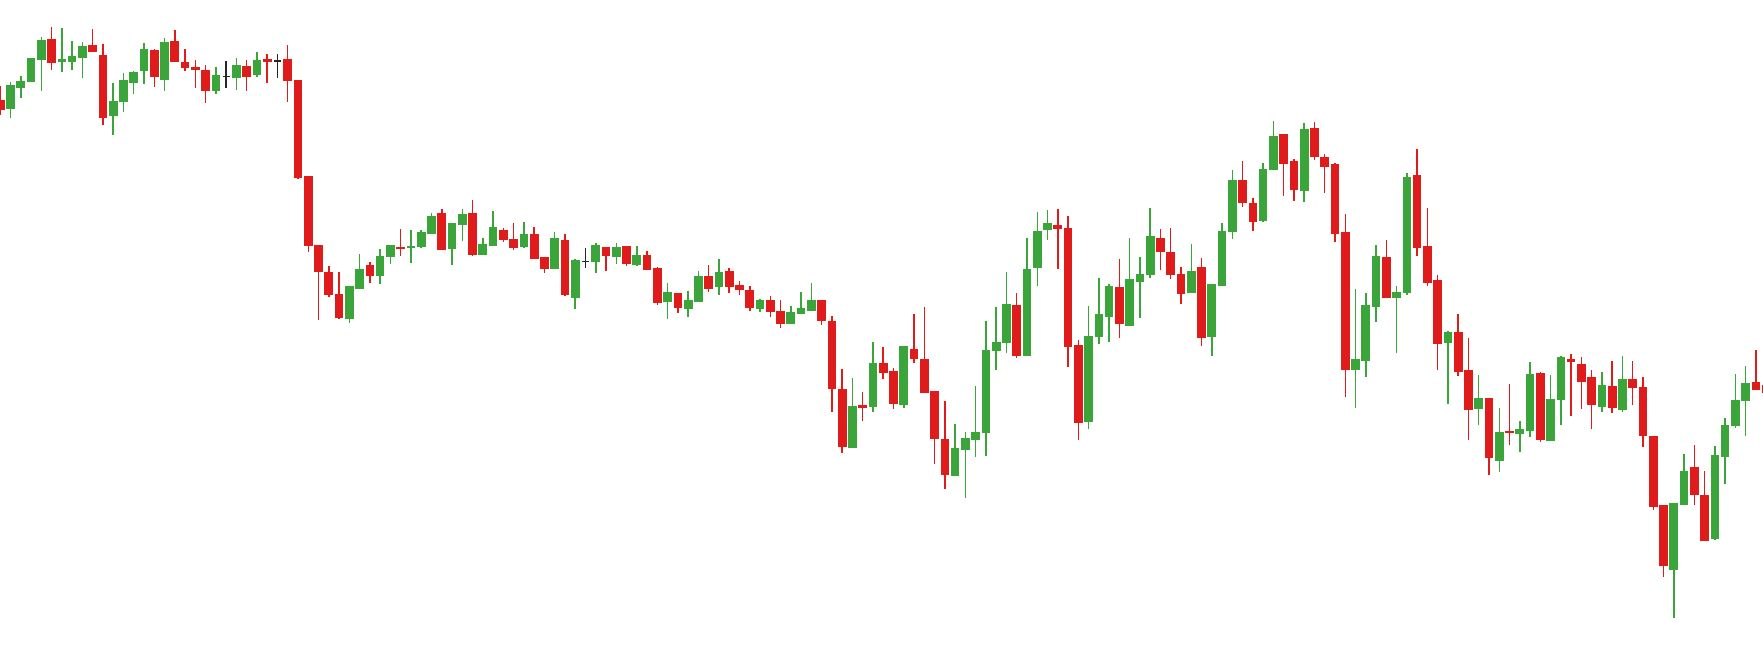buy: (989, 268, 1095, 444), (838, 367, 961, 500), (1102, 257, 1218, 362)
